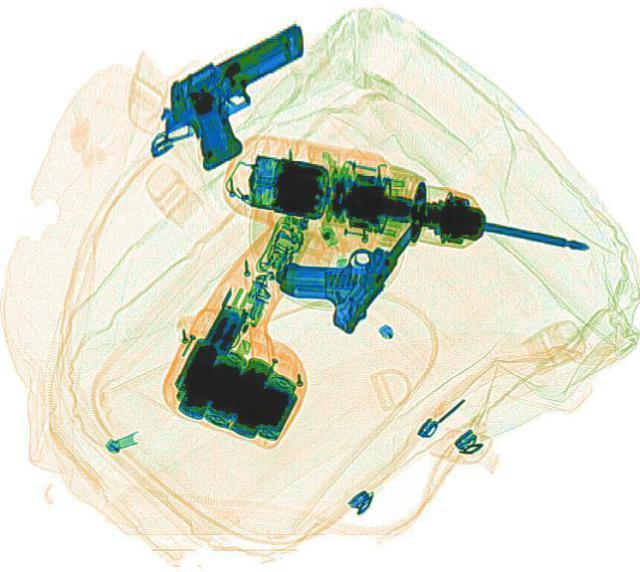Gun: (134, 19, 350, 174), (260, 187, 422, 333)
